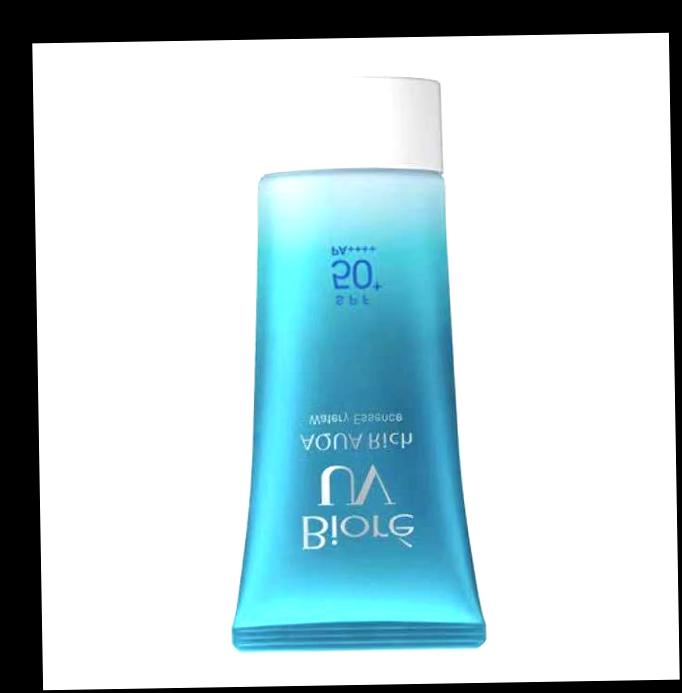cosmetic: (219, 73, 487, 654)
